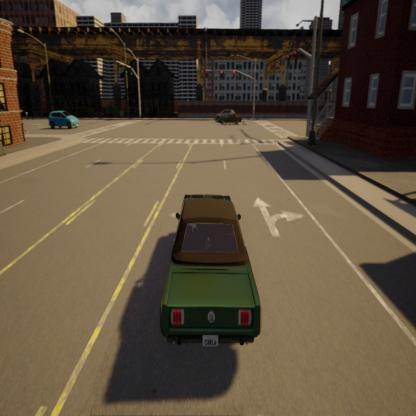Cars: (156, 185, 266, 360), (42, 103, 86, 136), (215, 105, 242, 124), (218, 109, 245, 127)
